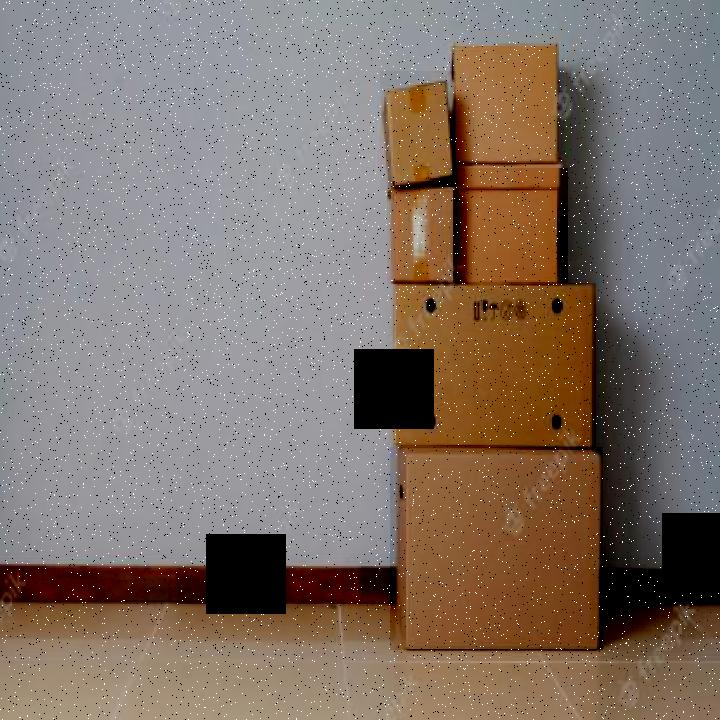box: (390, 447, 603, 650), (396, 283, 596, 454), (444, 31, 570, 166), (456, 168, 570, 284), (380, 71, 456, 190), (388, 187, 466, 284)
